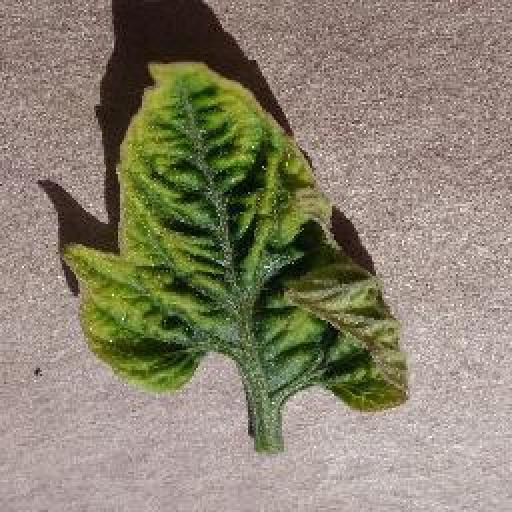Yellow Leaf Curl Virus: (60, 60, 411, 416)
